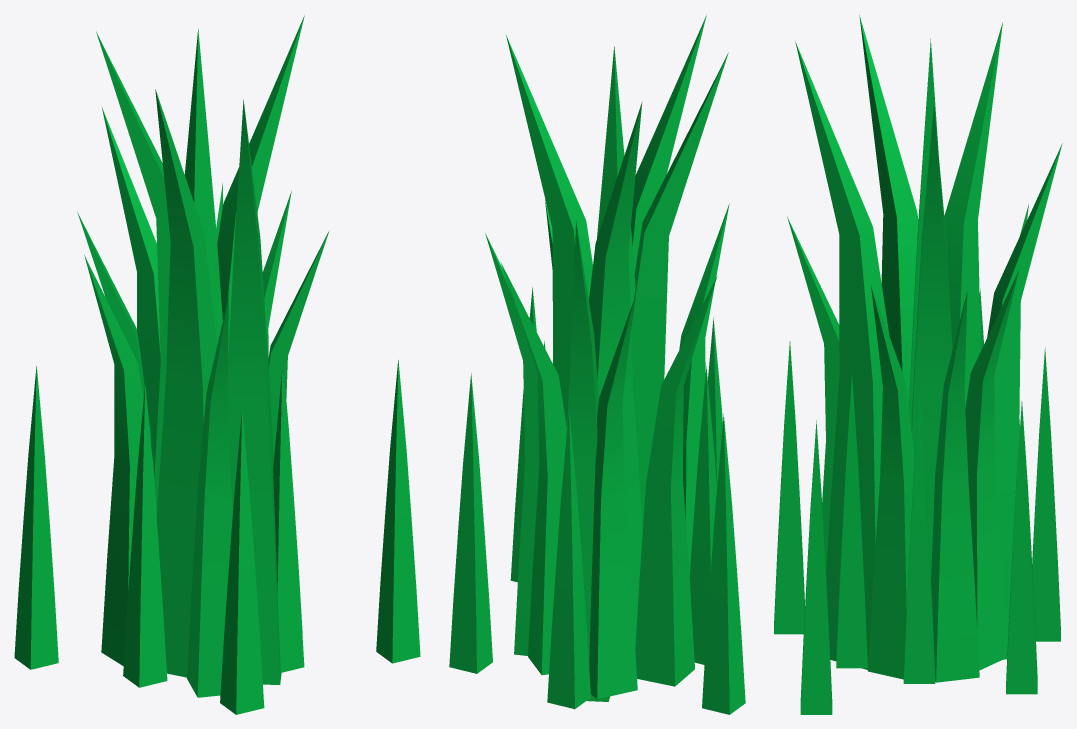
File: Grass_v1.fbx
The picture shows the model from 3 angles, left to right: view 1: azimuth 30°, elevation 25°; view 2: azimuth 150°, elevation 25°; view 3: azimuth 270°, elevation 25°; orthographic projection. The views are drawn at different scales.
Parts seen in each view (by area): view 1: pCube6, pCube4, pCube12, pCube11, pCube16, pCube17, pCube20, pCube18, pCube10, pCube15, pCube5, pCube1 (+4 smaller); view 2: pCube11, pCube9, pCube5, pCube6, pCube7, pCube1, pCube18, pCube19, pCube13, pCube10, pCube8, pCube17 (+5 smaller); view 3: pCube4, pCube8, pCube3, pCube7, pCube1, pCube10, pCube6, pCube5, pCube13, pCube20, pCube16, pCube15 (+4 smaller).
Part boxes in pixels (x1=…): pCube6: x1=155, y1=89, x2=217, y2=677; pCube4: x1=227, y1=99, x2=281, y2=684; pCube12: x1=187, y1=296, x2=232, y2=697; pCube11: x1=84, y1=255, x2=156, y2=665; pCube16: x1=220, y1=410, x2=264, y2=714; pCube17: x1=123, y1=383, x2=167, y2=687; pCube20: x1=376, y1=360, x2=420, y2=663; pCube18: x1=14, y1=366, x2=58, y2=669; pCube10: x1=102, y1=107, x2=160, y2=477; pCube15: x1=273, y1=370, x2=304, y2=672; pCube5: x1=96, y1=31, x2=170, y2=514; pCube1: x1=217, y1=15, x2=304, y2=357; pCube11: x1=635, y1=276, x2=717, y2=686; pCube9: x1=589, y1=299, x2=637, y2=699; pCube5: x1=589, y1=102, x2=642, y2=647; pCube6: x1=631, y1=52, x2=728, y2=530; pCube7: x1=500, y1=262, x2=566, y2=675; pCube1: x1=506, y1=35, x2=592, y2=427; pCube18: x1=702, y1=414, x2=745, y2=714; pCube19: x1=547, y1=408, x2=590, y2=709; pCube13: x1=449, y1=373, x2=492, y2=673; pCube10: x1=566, y1=220, x2=609, y2=701; pCube8: x1=485, y1=233, x2=539, y2=655; pCube17: x1=689, y1=366, x2=716, y2=664; pCube4: x1=795, y1=41, x2=889, y2=669; pCube8: x1=931, y1=291, x2=979, y2=682; pCube3: x1=867, y1=285, x2=914, y2=679; pCube7: x1=965, y1=271, x2=1018, y2=670; pCube1: x1=911, y1=105, x2=952, y2=577; pCube10: x1=987, y1=143, x2=1062, y2=659; pCube6: x1=859, y1=15, x2=918, y2=407; pCube5: x1=944, y1=22, x2=1002, y2=408; pCube13: x1=1006, y1=401, x2=1037, y2=694; pCube20: x1=800, y1=420, x2=832, y2=714; pCube16: x1=774, y1=341, x2=804, y2=634; pCube15: x1=836, y1=374, x2=867, y2=668.
Bounding box in the file's own units: 5.18 × 10.15 × 4.34.
